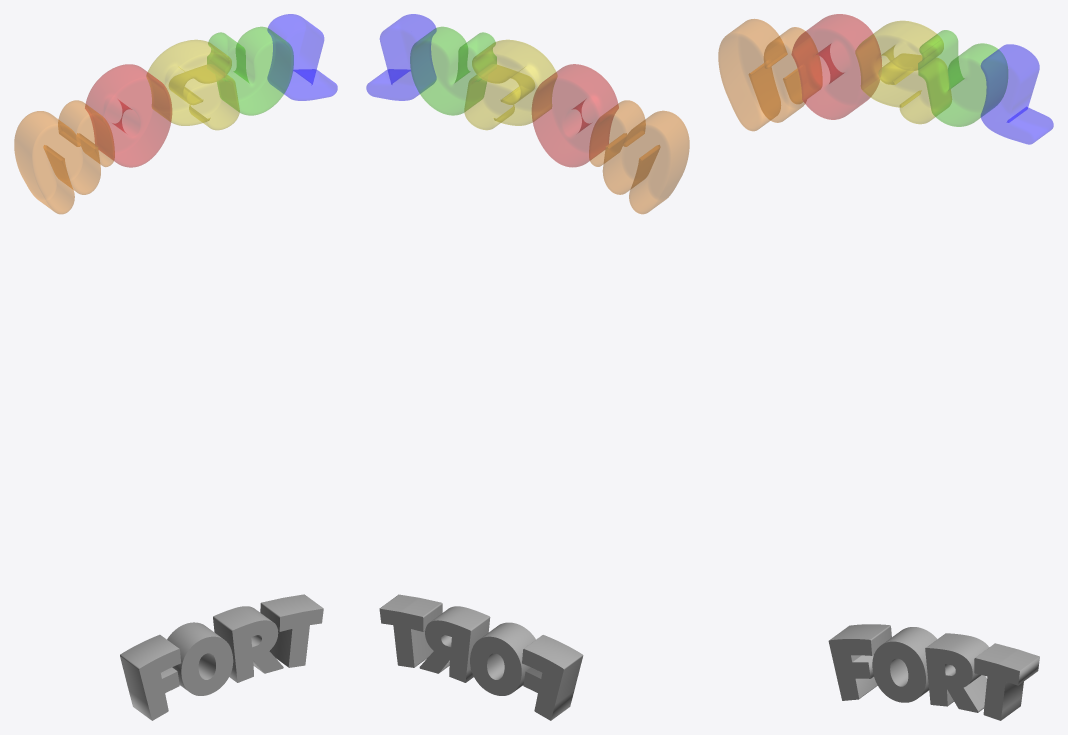
File: asset.glb
The picture shows the model from 3 angles, left to right: view 1: azimuth 30°, elevation 25°; view 2: azimuth 150°, elevation 25°; view 3: azimuth 330°, elevation 25°; orthographic projection. The views are drawn at different scales.
Parts seen in each view (by area): view 1: Curve.004, Curve.008, Curve.007; view 2: Curve.004, Curve.008, Curve.007; view 3: Curve.004, Curve.008, Curve.007.
Part boxes in pixels (left/top/right/bottom): Curve.004: left=14, top=14, right=337, bottom=213; Curve.008: left=167, top=594, right=323, bottom=695; Curve.007: left=120, top=634, right=181, bottom=720; Curve.004: left=366, top=14, right=689, bottom=213; Curve.008: left=379, top=594, right=535, bottom=695; Curve.007: left=522, top=635, right=583, bottom=720; Curve.004: left=718, top=14, right=1053, bottom=144; Curve.008: left=872, top=627, right=1039, bottom=720; Curve.007: left=828, top=624, right=891, bottom=700.
Size of the model in its own units: 16.6 by 34.04 by 1.86.
